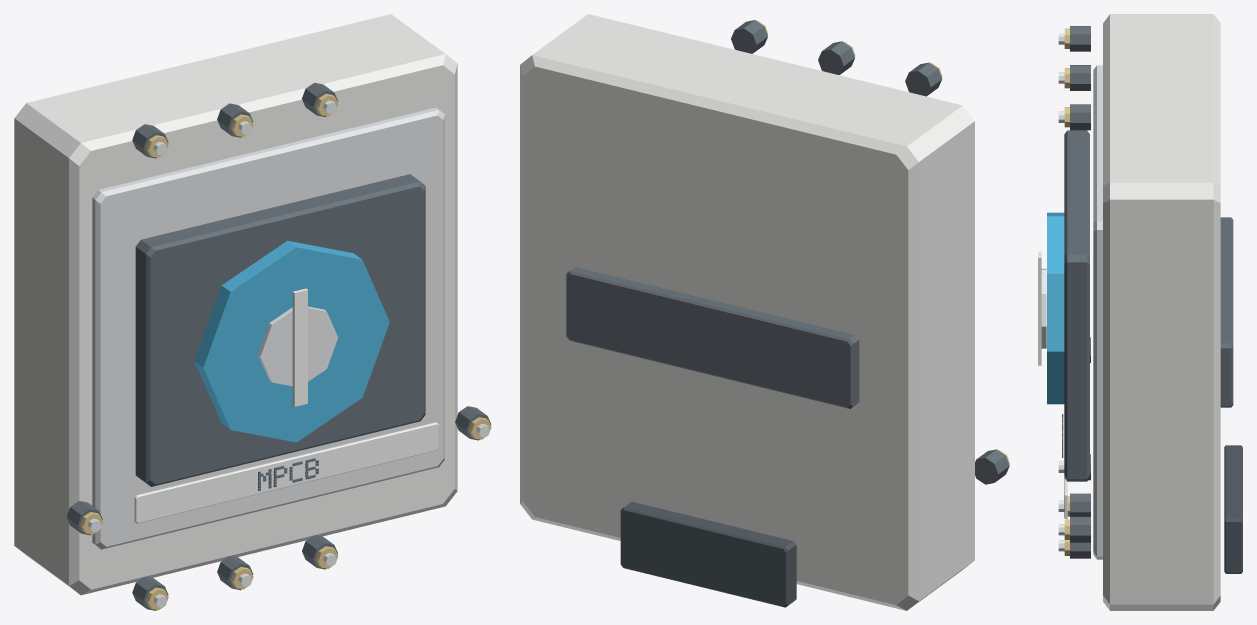
File: motorBreaker.glb
3 views of the same model, side by side, from view 1: azimuth 30°, elevation 25°; view 2: azimuth 150°, elevation 25°; view 3: azimuth 270°, elevation 25° (orthographic). The views are drawn at different scales.
Visible parts, largest first — view 1: motorBreaker-board; view 2: motorBreaker-board; view 3: motorBreaker-board.
Part boxes in pixels (<box>): motorBreaker-board: <box>14,14,491,610</box>; motorBreaker-board: <box>520,14,1009,610</box>; motorBreaker-board: <box>1038,14,1242,610</box>.
Size of the model in its own units: 3.15 by 3.48 by 1.43.
